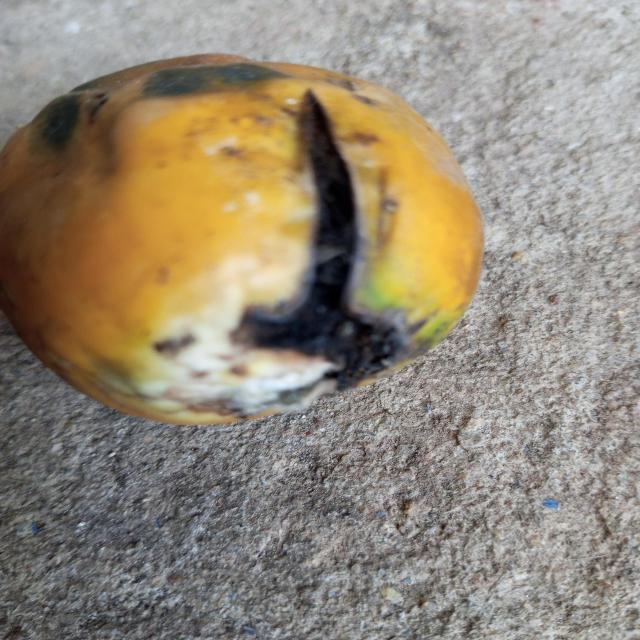damaged: (0, 55, 483, 424)
